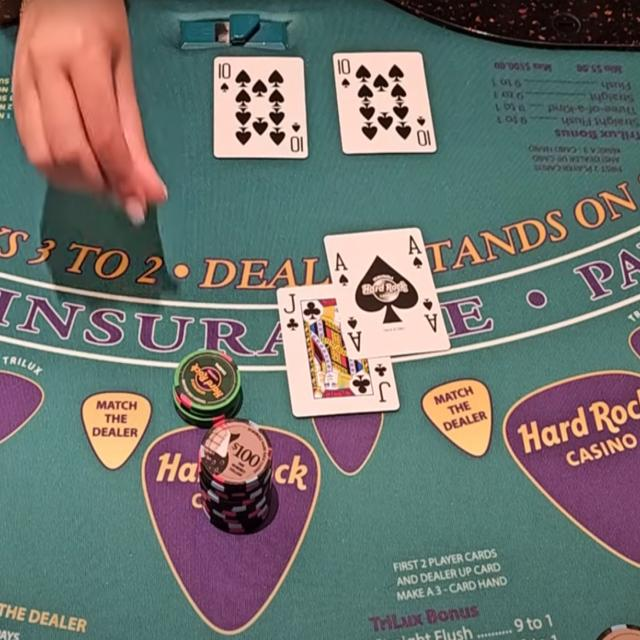10: (215, 58, 232, 80), (335, 57, 352, 75)
A: (331, 248, 349, 273)
J: (279, 292, 299, 316)
